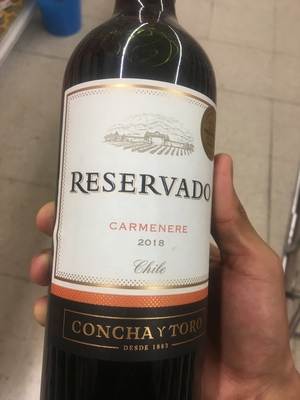reservado carmenere: (55, 6, 217, 400)
